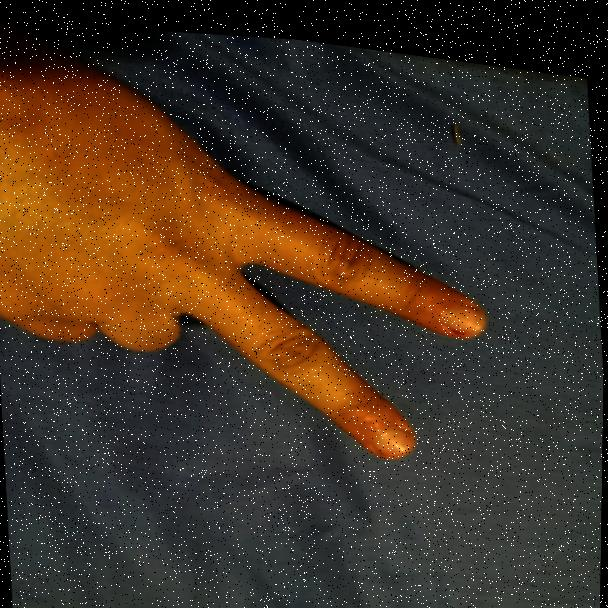two: (0, 30, 530, 501)
